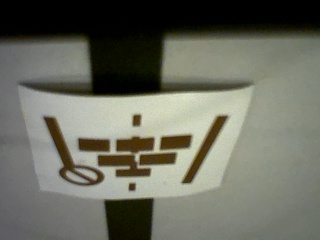Clearing_Zone: (39, 113, 231, 194)
